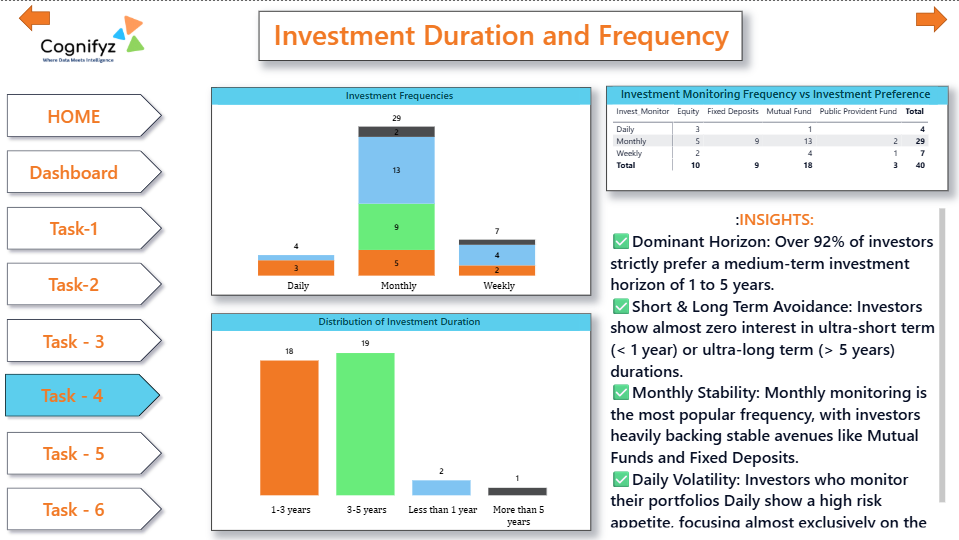

The dashboard page shown, as its layout file describes it:
{"tool":"powerbi","page":{"name":"Task - 4","canvas":[1280,720],"ordinal":5},"visuals":[{"type":"pivotTable","title":"Investment Monitoring Frequency vs Investment Preference ","fields":{"Rows":["Data_set 2.Invest_Monitor"],"Columns":["Data_set 2.Avenue"],"Values":["CountNonNull(Data_set 2.Avenue)"]},"box":[808,114,456,140],"z":0},{"type":"image","box":[0,0,226.7,120],"z":1000},{"type":"shape","box":[25.7,5.7,41.4,35.7],"z":2000},{"type":"shape","box":[1221.4,7.1,41.4,35.7],"z":3000},{"type":"textbox","box":[808.3,271.7,456.7,435],"z":4000},{"type":"textbox","box":[345,13.3,645,66.7],"z":5000},{"type":"pageNavigator","box":[0,115,225,605],"z":6000},{"type":"columnChart","title":"Investment Frequencies","fields":{"Category":["Data_set 2.Invest_Monitor"],"Series":["Data_set 2.Avenue"],"Y":["CountNonNull(Data_set 2.Avenue)"]},"box":[282.5,114.9,506.3,277.6],"z":7000},{"type":"clusteredColumnChart","title":"Distribution of Investment Duration","fields":{"Category":["Data_set 2.Duration"],"Y":["CountNonNull(Data_set 2.Duration)"]},"box":[282.5,417,506.3,289.8],"z":8000}]}

Visuals, with their boxes in screenshot pixels (x1, y1, x2, y2), scaled from the page's 1280x720 canvas onto the 959x540 screenshot:
"Investment Monitoring Frequency vs Investment Preference " pivotTable: box(605, 86, 947, 190)
image: box(0, 0, 170, 90)
shape: box(19, 4, 50, 31)
shape: box(915, 5, 946, 32)
textbox: box(606, 204, 948, 530)
textbox: box(258, 10, 742, 60)
pageNavigator: box(0, 86, 169, 539)
"Investment Frequencies" columnChart: box(212, 86, 591, 294)
"Distribution of Investment Duration" clusteredColumnChart: box(212, 313, 591, 530)
